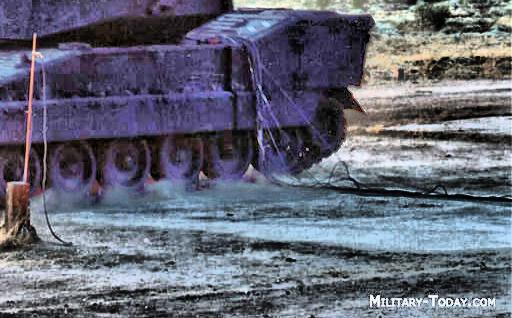tanks: (1, 1, 375, 206)
